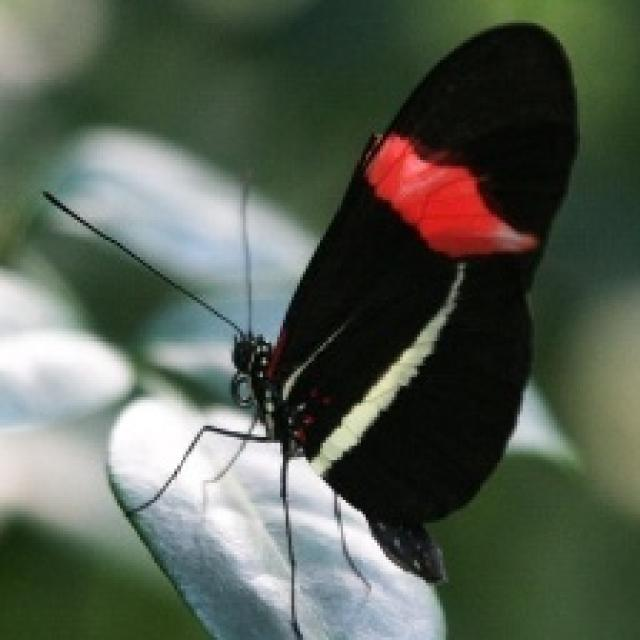butterfly: (40, 17, 580, 637)
